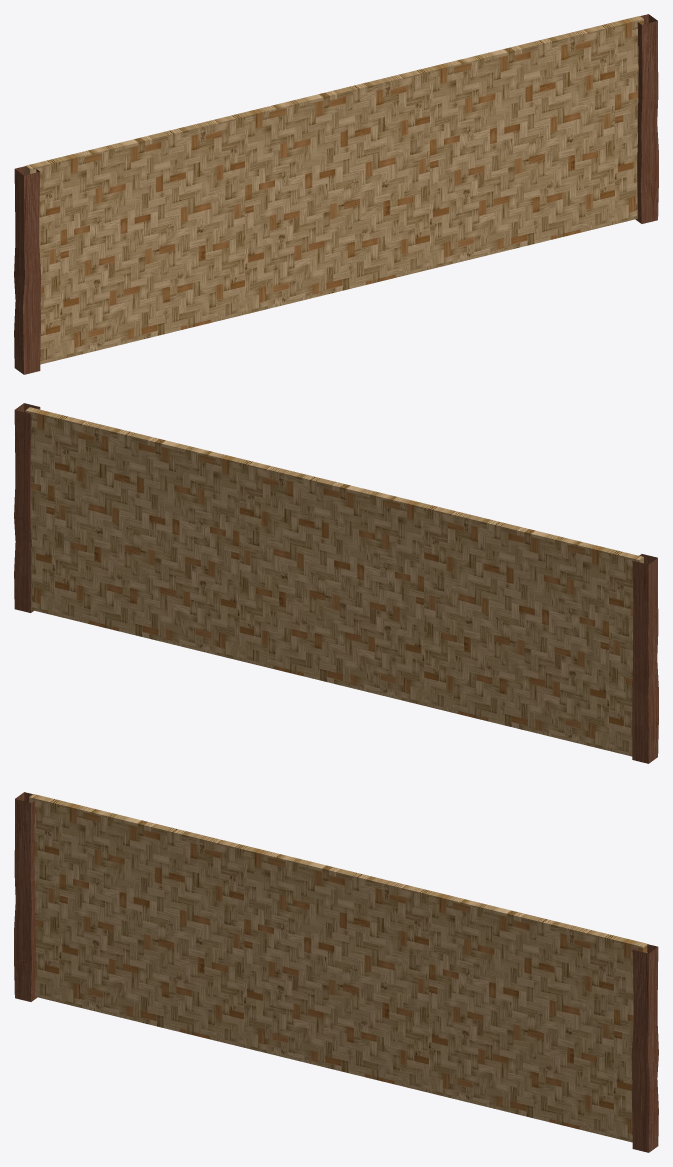
Rendered from R3_Belakang.fbx.
3 renders of one model, top to bottom at view 1: azimuth 30°, elevation 25°; view 2: azimuth 150°, elevation 25°; view 3: azimuth 330°, elevation 25°, orthographic.
Parts seen in each view (by area): view 1: T_Belakang_R3; view 2: T_Belakang_R3; view 3: T_Belakang_R3.
Boxes of the visible parts, bbox=[...] form: T_Belakang_R3: bbox=[14, 14, 658, 374]; T_Belakang_R3: bbox=[14, 403, 658, 763]; T_Belakang_R3: bbox=[14, 792, 658, 1152].
Size of the model in its own units: 24.68 by 7.44 by 0.6641.
2 materials, 2 textured.
